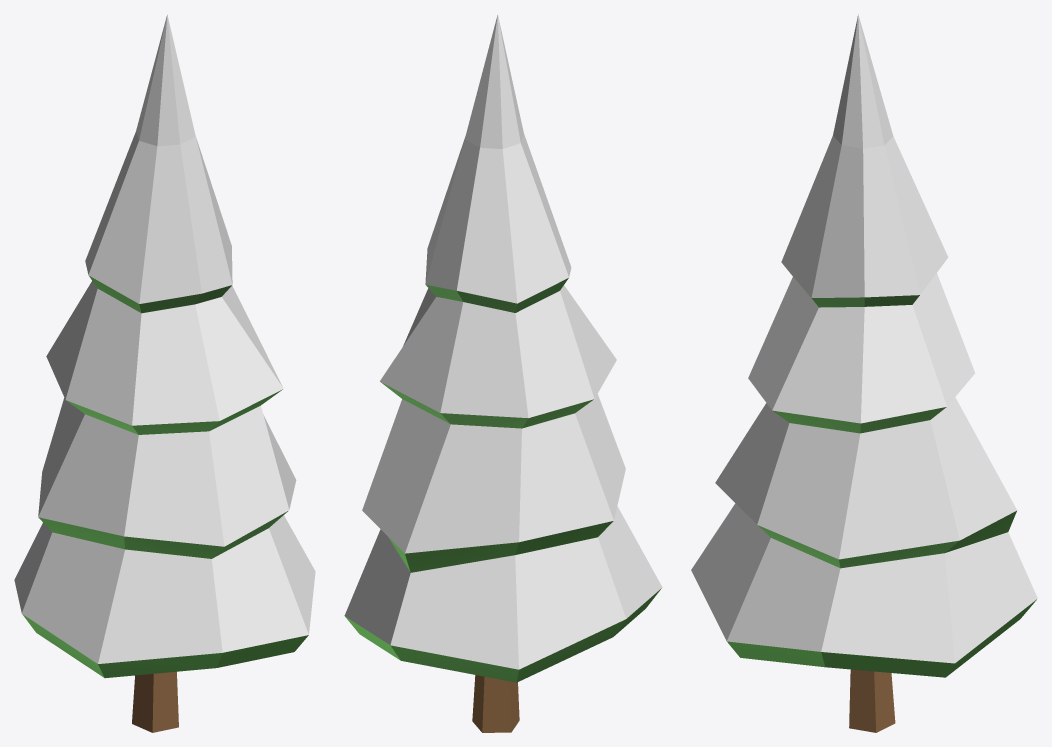
The model's file is Fir_Tree_m_Snow_02.fbx.
3 views of the same model, side by side, from view 1: azimuth 30°, elevation 25°; view 2: azimuth 150°, elevation 25°; view 3: azimuth 270°, elevation 25° (orthographic).
Parts seen in each view (by area): view 1: Fir_Tree_m_Snow_02; view 2: Fir_Tree_m_Snow_02; view 3: Fir_Tree_m_Snow_02.
Boxes of the visible parts, box(x1,y1,x2,y2) form: Fir_Tree_m_Snow_02: box(14, 14, 315, 732); Fir_Tree_m_Snow_02: box(344, 14, 662, 732); Fir_Tree_m_Snow_02: box(691, 14, 1037, 732).
Size of the model in its own units: 286 by 728 by 322.
